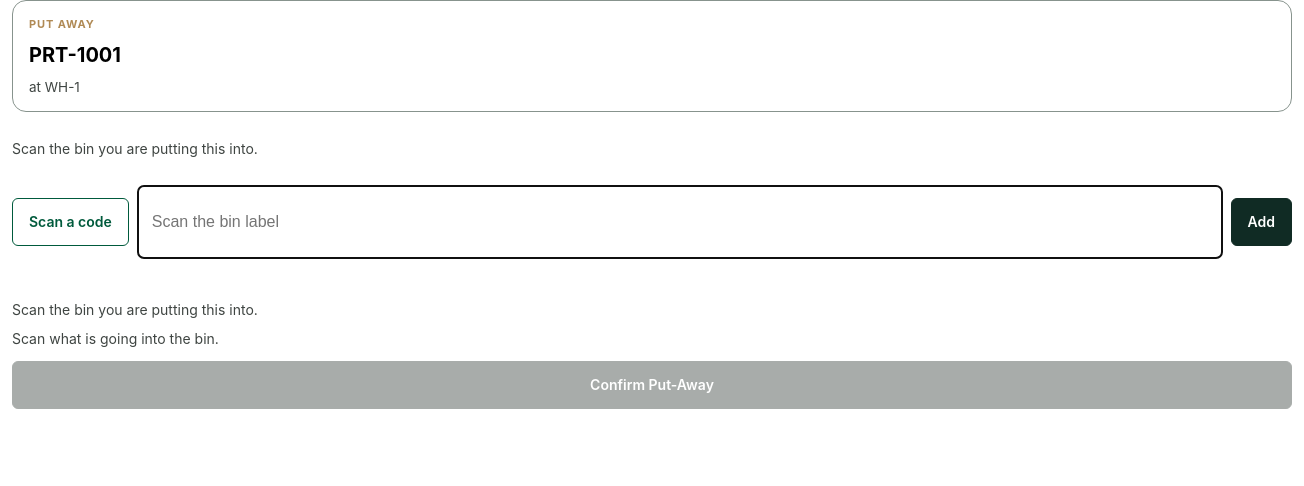
Scenario: Put-away (the bin is validated before anything goes in it) › the bin can be changed after it is chosen
Type "A-14" into the field named "scan bin".
click(680, 222); type("A-14")  # box top-left (137, 185), bottom-right (1223, 259)
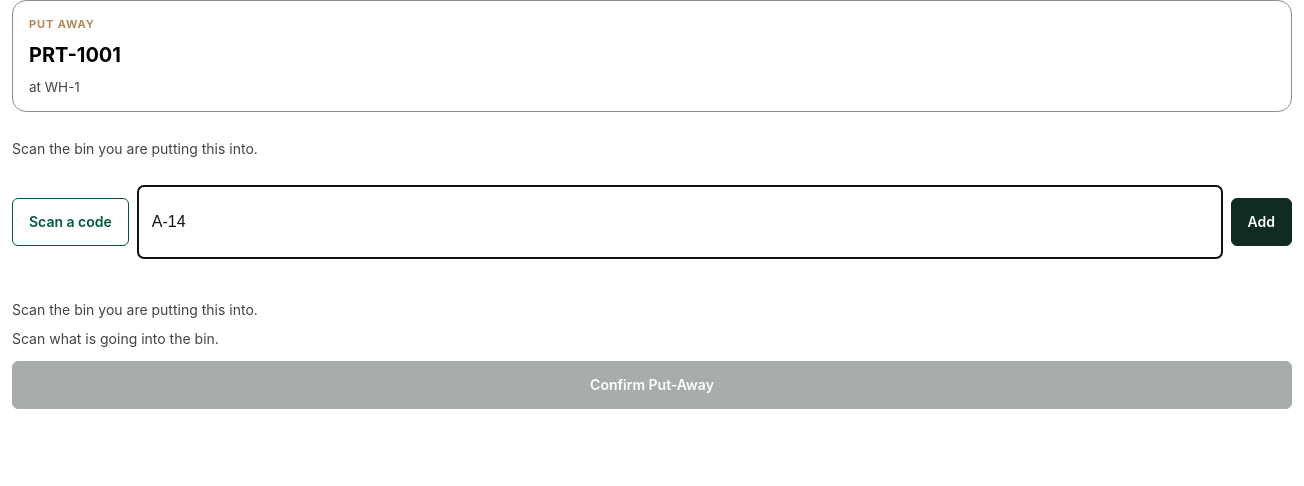
Click the button "Add".
click(1261, 222)  # box top-left (1230, 198), bottom-right (1292, 246)
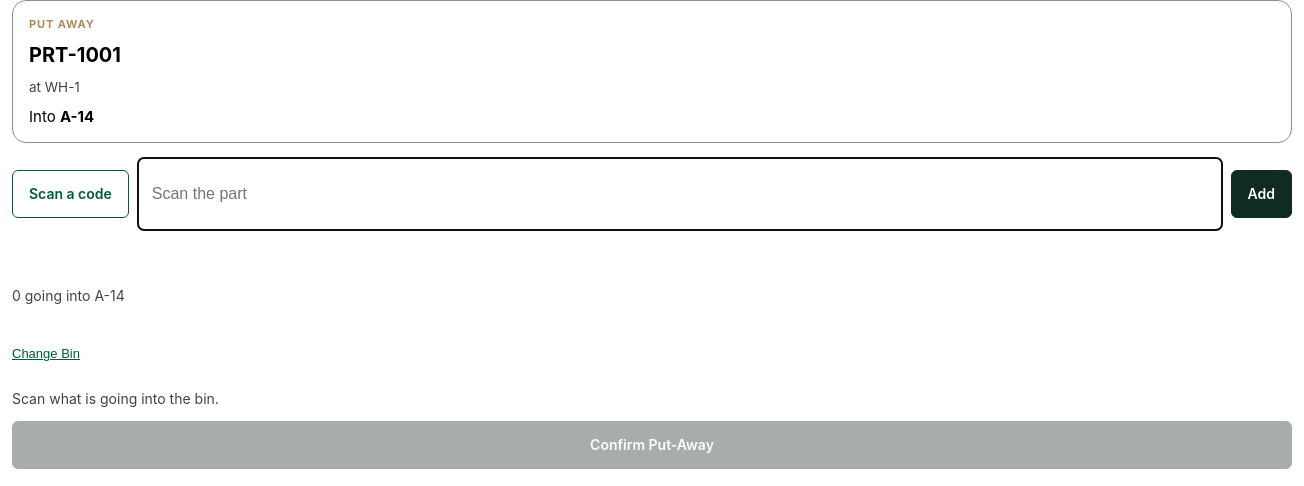
Expected: the field named "scan item" is shown, top-left (137, 157), bottom-right (1223, 231)
Click the button "Change Bin".
click(46, 354)  # box top-left (12, 332), bottom-right (1292, 376)
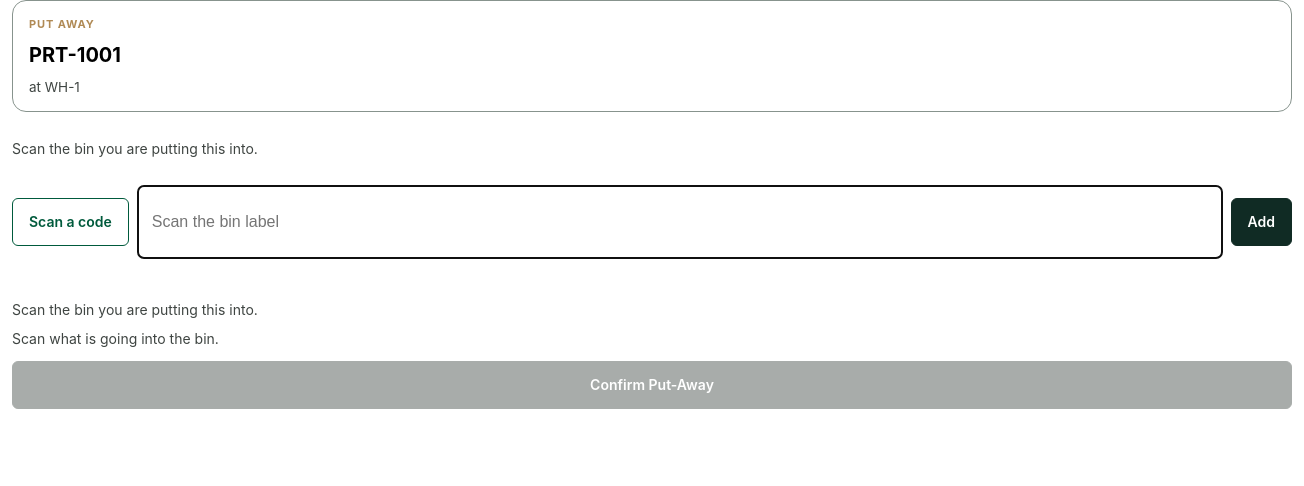
Expected: the field named "scan bin" is shown, top-left (137, 185), bottom-right (1223, 259)
